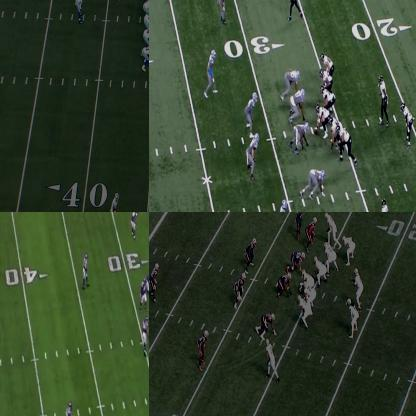CENTER: (313, 102, 332, 137), (301, 268, 316, 291)
DB: (206, 49, 216, 95), (198, 331, 209, 371), (81, 254, 91, 288), (219, 0, 233, 22), (151, 262, 159, 298), (129, 212, 139, 238), (295, 212, 306, 233), (65, 401, 75, 415), (279, 200, 290, 211)
LB: (249, 136, 260, 181), (233, 273, 246, 310), (246, 237, 258, 270), (247, 91, 256, 134), (306, 218, 318, 249), (139, 275, 148, 308), (142, 317, 148, 356)
QB: (378, 76, 388, 127), (353, 268, 362, 308), (142, 0, 148, 15)
SKILL: (402, 103, 412, 149), (346, 298, 357, 334), (269, 339, 278, 379), (344, 234, 355, 265), (325, 212, 335, 244), (106, 192, 122, 211), (75, 0, 88, 23), (287, 0, 301, 17), (379, 199, 394, 211), (142, 45, 148, 71)
